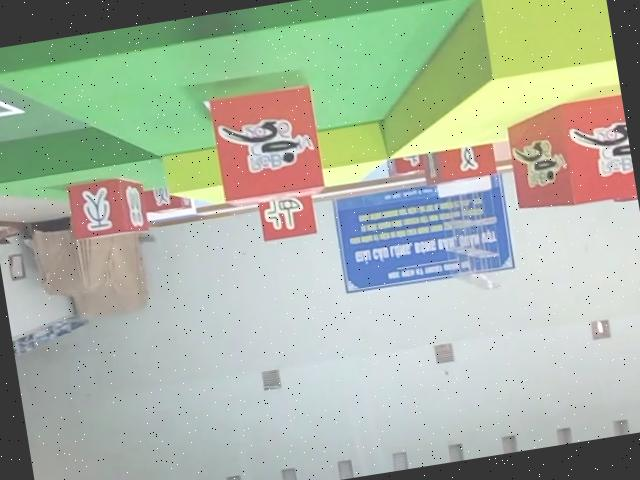R1: (501, 93, 638, 220), (205, 83, 329, 212)
R2 Fake: (63, 173, 151, 245)
R2 Real: (253, 184, 320, 246)
